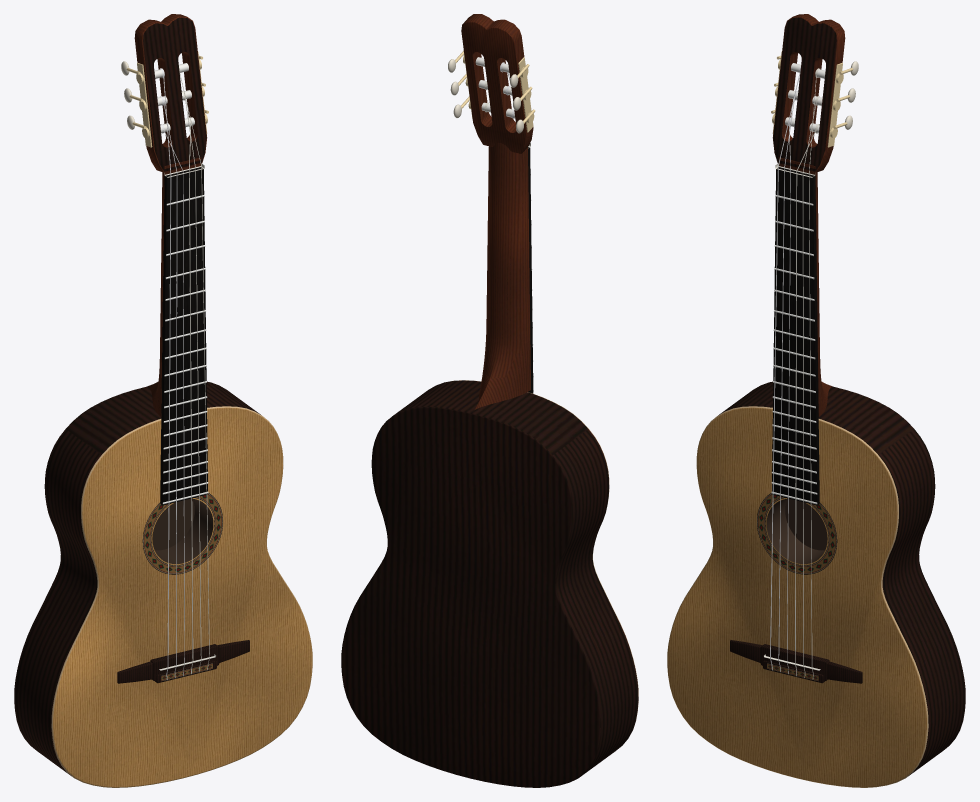
Rendered from guitar.glb.
The picture shows the model from 3 angles, left to right: view 1: azimuth 30°, elevation 25°; view 2: azimuth 150°, elevation 25°; view 3: azimuth 330°, elevation 25°; orthographic projection.
Visible parts, largest first — view 1: guitar_body_geo, fretboard, string_0, string_3, string_4, string_1, string_5, string_2; view 2: guitar_body_geo, fretboard; view 3: guitar_body_geo, fretboard, string_0, string_1, string_3, string_5, string_2, string_4.
Part boxes in pixels (x1=…): guitar_body_geo: x1=14, y1=14, x2=312, y2=787; fretboard: x1=160, y1=167, x2=207, y2=505; string_0: x1=167, y1=177, x2=171, y2=668; string_3: x1=189, y1=173, x2=193, y2=661; string_4: x1=195, y1=171, x2=201, y2=660; string_1: x1=176, y1=176, x2=177, y2=666; string_5: x1=201, y1=170, x2=209, y2=657; string_2: x1=183, y1=174, x2=184, y2=664; guitar_body_geo: x1=341, y1=14, x2=638, y2=787; fretboard: x1=528, y1=147, x2=533, y2=393; guitar_body_geo: x1=667, y1=14, x2=965, y2=787; fretboard: x1=772, y1=167, x2=819, y2=505; string_0: x1=770, y1=170, x2=778, y2=658; string_1: x1=778, y1=171, x2=784, y2=660; string_3: x1=795, y1=174, x2=797, y2=664; string_5: x1=809, y1=177, x2=812, y2=667; string_2: x1=787, y1=172, x2=790, y2=661; string_4: x1=802, y1=176, x2=803, y2=666.
Size of the model in its own units: 0.364 by 0.9966 by 0.1096.
15 materials, 6 textured.
